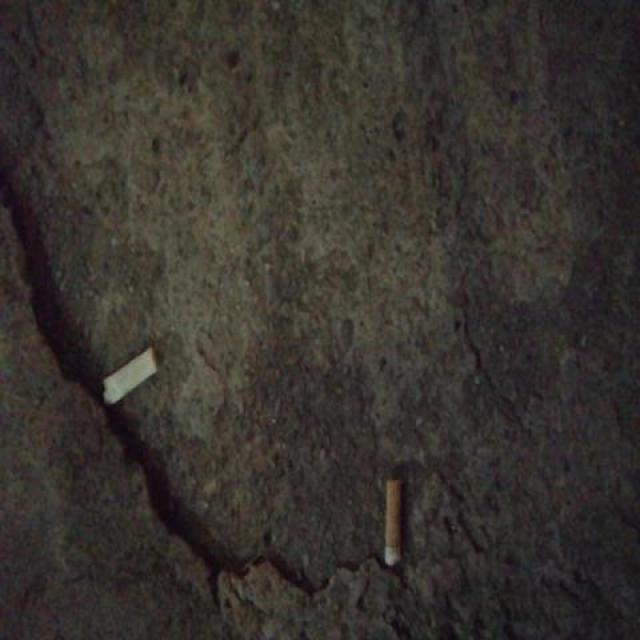non-organic waste: (99, 341, 161, 414), (381, 475, 406, 570)
